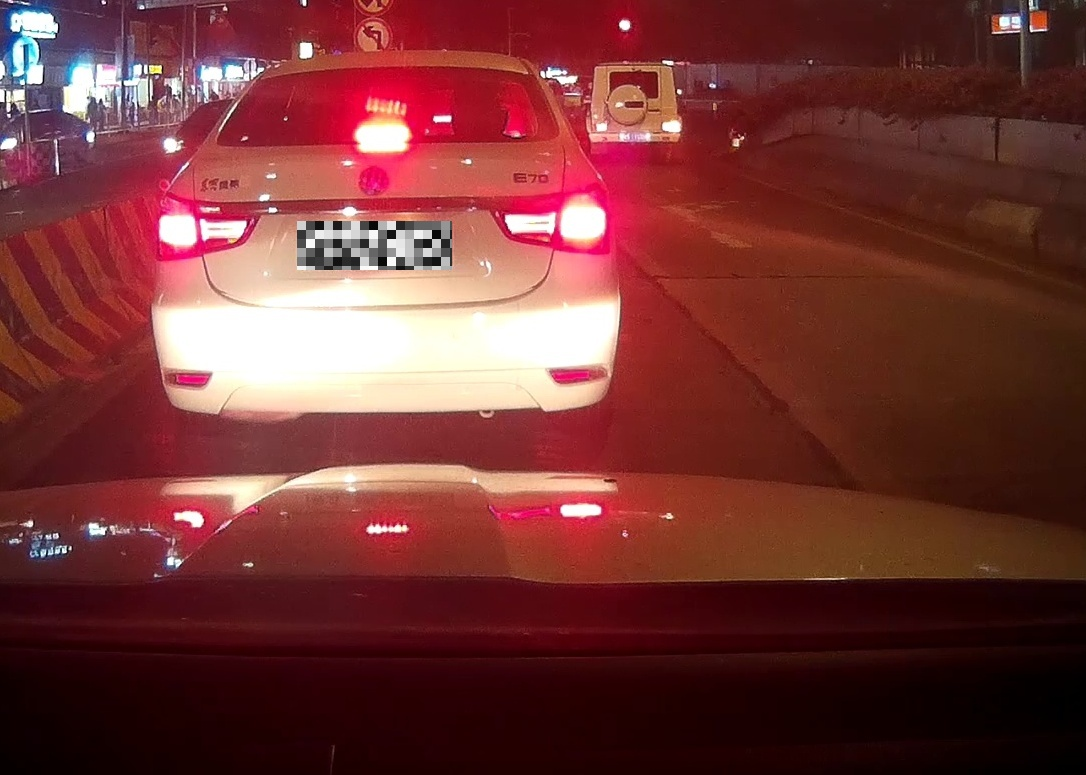L_light: (154, 191, 262, 260)
R_light: (489, 184, 610, 255)
T_light: (354, 123, 410, 142)
night-brake: (149, 50, 620, 458)
plate_1: (297, 221, 452, 270)
